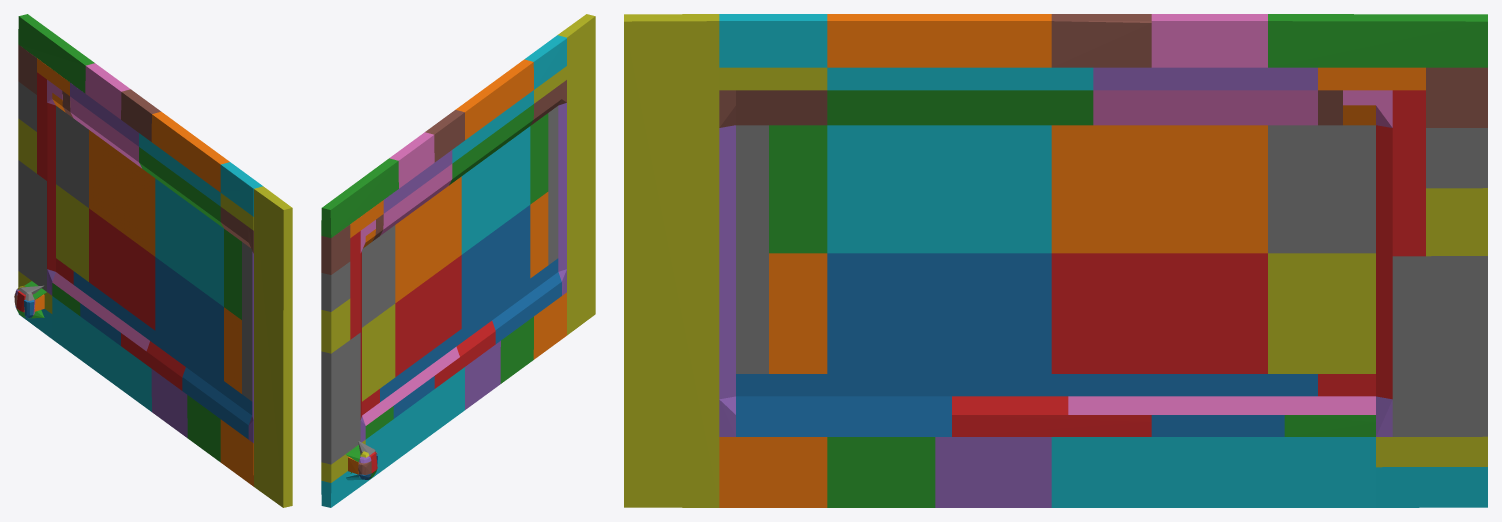
The model's file is Door_11_cvx.obj.
3 renders of one model, left to right at view 1: azimuth 30°, elevation 25°; view 2: azimuth 150°, elevation 25°; view 3: azimuth 270°, elevation 25°, orthographic. The views are drawn at different scales.
Visible parts, largest first — view 1: scenes/apartment_0000_coacd/output/Unknown/Kitchen_Extractor/Doo; view 2: scenes/apartment_0000_coacd/output/Unknown/Kitchen_Extractor/Doo; view 3: scenes/apartment_0000_coacd/output/Unknown/Kitchen_Extractor/Doo.
Part boxes in pixels (bbox=[...]): scenes/apartment_0000_coacd/output/Unknown/Kitchen_Extractor/Doo: bbox=[14, 14, 292, 507]; scenes/apartment_0000_coacd/output/Unknown/Kitchen_Extractor/Doo: bbox=[321, 14, 595, 507]; scenes/apartment_0000_coacd/output/Unknown/Kitchen_Extractor/Doo: bbox=[624, 14, 1487, 507].
Size of the model in its own units: 0.0645 by 0.5844 by 0.9397.
